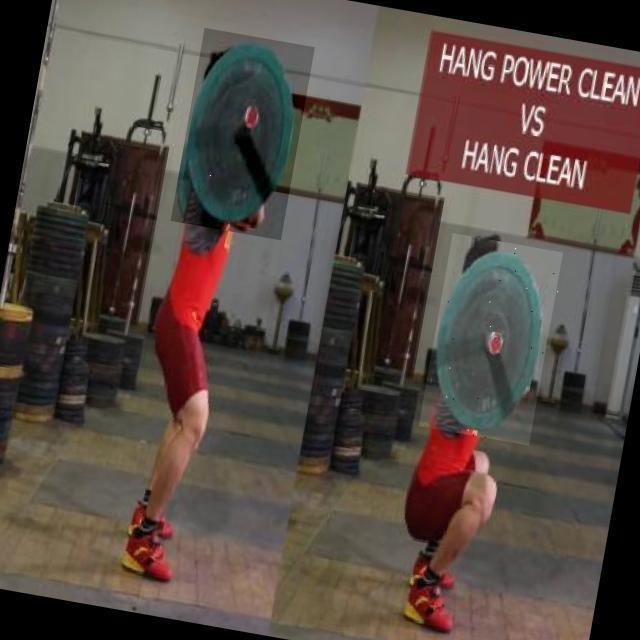barbell: (172, 29, 318, 242), (420, 234, 566, 447)
